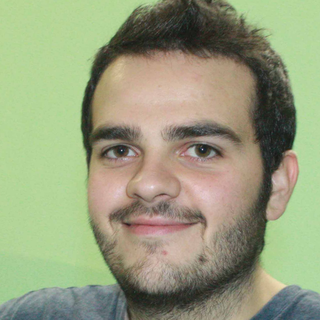eye: (177, 139, 226, 164), (97, 139, 143, 164)
